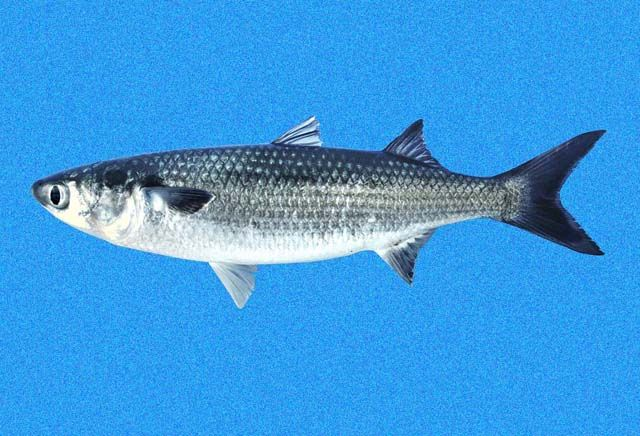fish: (31, 118, 608, 311)
